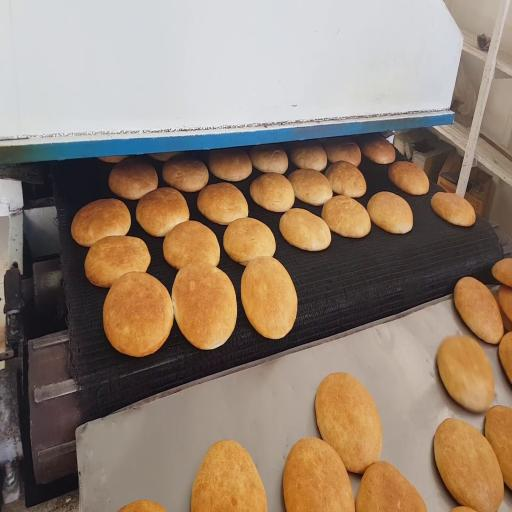bread: (315, 373, 382, 474), (434, 419, 503, 511), (103, 272, 173, 356), (172, 263, 237, 349), (191, 440, 267, 511), (283, 438, 354, 511), (241, 256, 297, 339), (437, 336, 494, 412), (356, 462, 427, 511), (85, 236, 150, 287), (454, 277, 503, 344), (71, 199, 131, 246), (163, 221, 220, 269), (136, 187, 189, 237), (223, 218, 275, 265), (485, 406, 511, 489), (197, 183, 248, 225), (280, 209, 331, 251), (322, 196, 370, 238), (109, 159, 158, 200), (367, 192, 413, 234), (250, 173, 294, 212), (288, 169, 332, 205), (163, 157, 208, 192), (431, 192, 475, 226), (326, 161, 366, 197), (209, 148, 252, 181), (389, 162, 429, 195), (249, 145, 288, 174), (290, 142, 327, 171), (323, 139, 361, 166), (360, 136, 395, 164), (493, 289, 511, 332), (499, 333, 511, 382), (492, 258, 511, 287), (119, 501, 166, 511), (498, 285, 511, 319), (150, 152, 181, 161), (99, 156, 126, 164), (451, 507, 474, 511)
